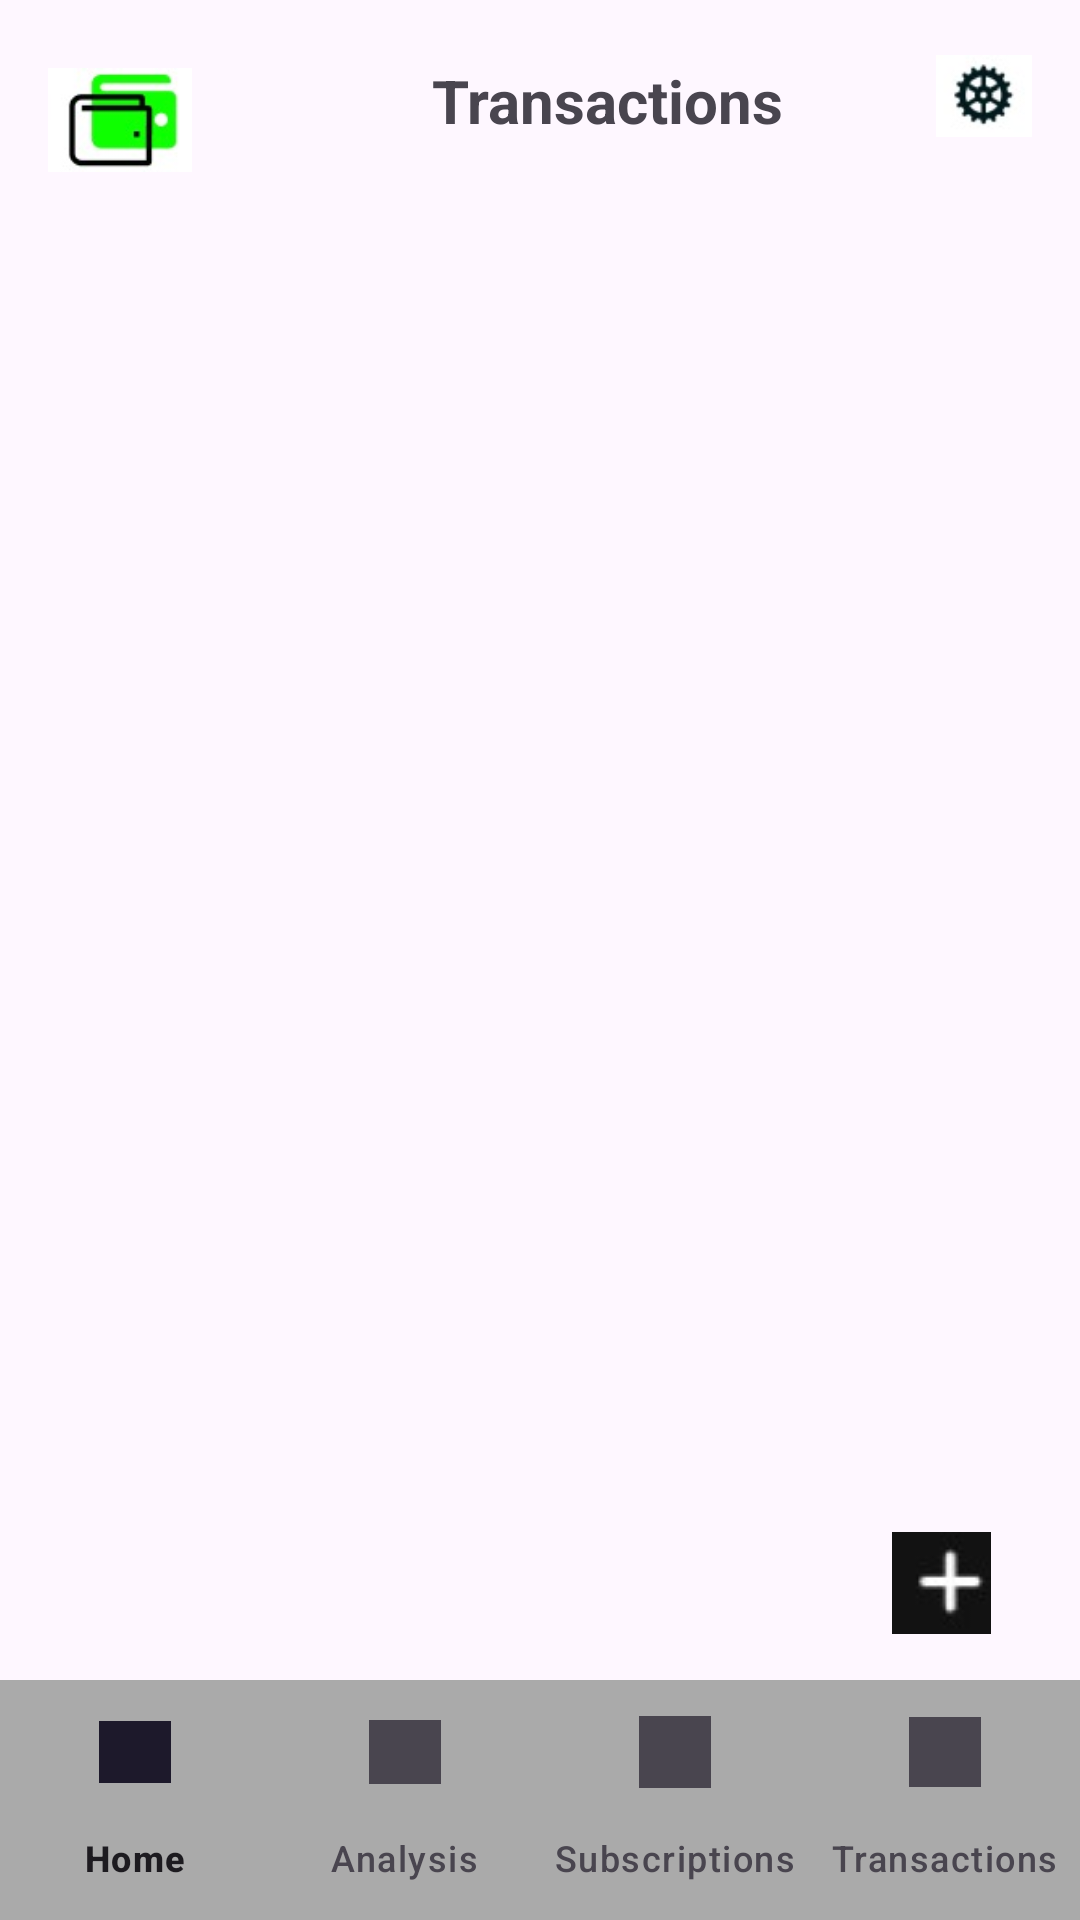

Icon click points for this 1080 x 1920 phone screenshot, format [x,y]:
add: [941,1583]
settings: [984,94]
wallet: [123,120]
